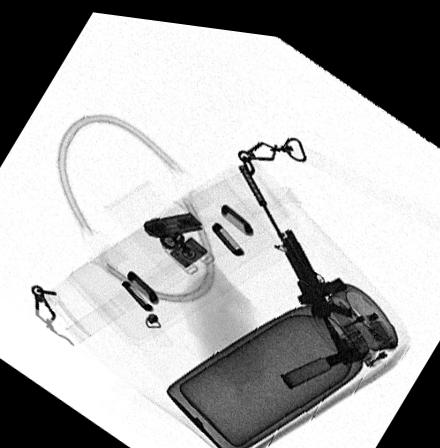Bullet: (280, 341, 358, 381)
Gun: (238, 157, 365, 356)
